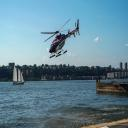helicopter: (41, 18, 84, 61)
